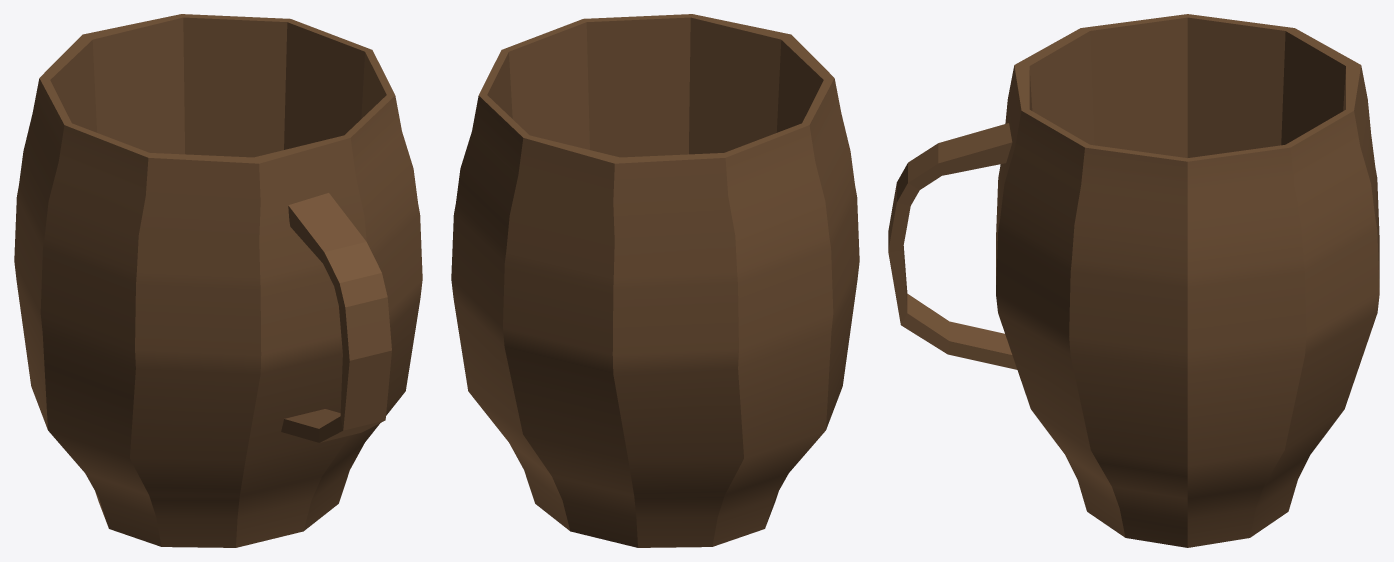
The model's file is Clay_Pot_Six.fbx.
3 renders of one model, left to right at view 1: azimuth 30°, elevation 25°; view 2: azimuth 150°, elevation 25°; view 3: azimuth 270°, elevation 25°, orthographic.
Visible parts, largest first — view 1: Clay_Pot_Six; view 2: Clay_Pot_Six; view 3: Clay_Pot_Six.
Part boxes in pixels (x1=…): Clay_Pot_Six: x1=14, y1=14, x2=422, y2=547; Clay_Pot_Six: x1=451, y1=14, x2=859, y2=547; Clay_Pot_Six: x1=888, y1=14, x2=1379, y2=547.
Size of the model in its own units: 0.6823 by 0.7602 by 0.8308.
